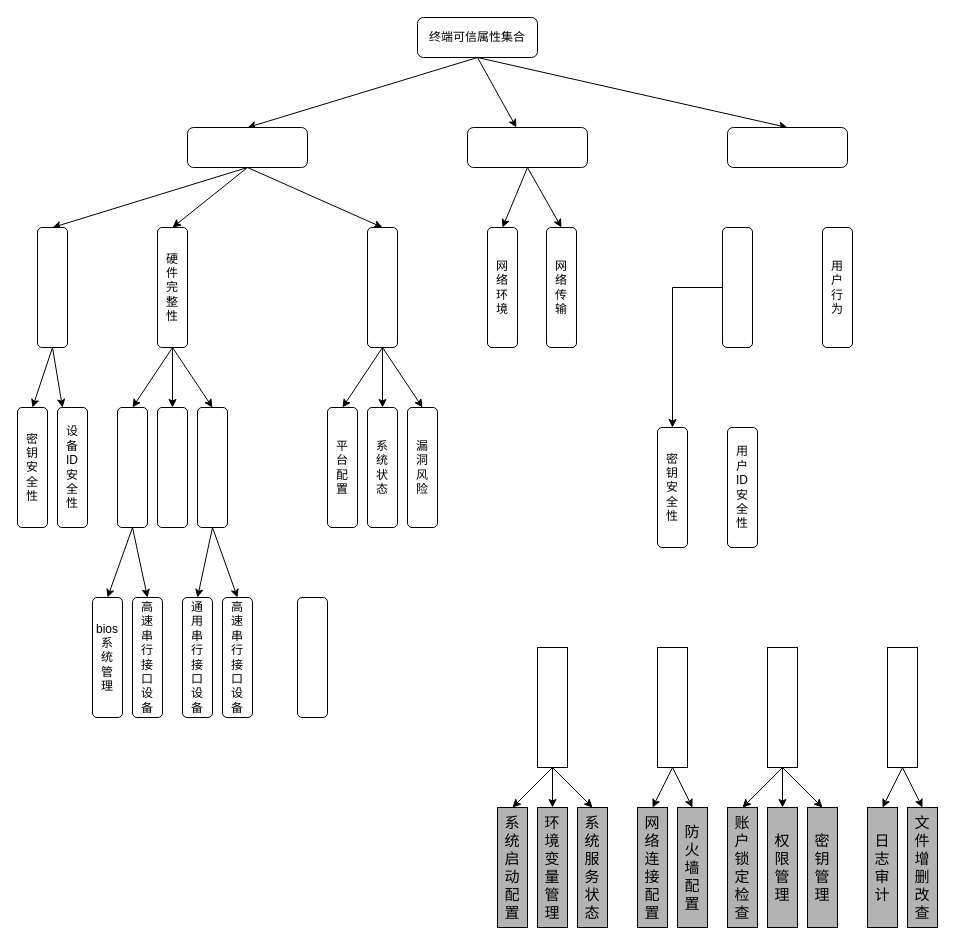
Image size: 955x945. Some labels were removed from this diagram. Here are the shapes that lost their labels. From the top down, the centre of each, then its label:
the point at 247,147: 平台可信
the point at 527,147: 网络可信
the point at 787,147: 用户可信
the point at 52,287: 设 备 身 份
the point at 382,287: 软 件 完 整 性
the point at 737,287: 用 户 身 份
the point at 132,467: 固 件 完 整 性
the point at 172,467: TPM安 全 启 动
the point at 212,467: 硬 件 设 备 连 接
the point at 552,707: 系统安全
the point at 672,707: 网络安全
the point at 782,707: 用户安全
the point at 902,707: 审计规范
